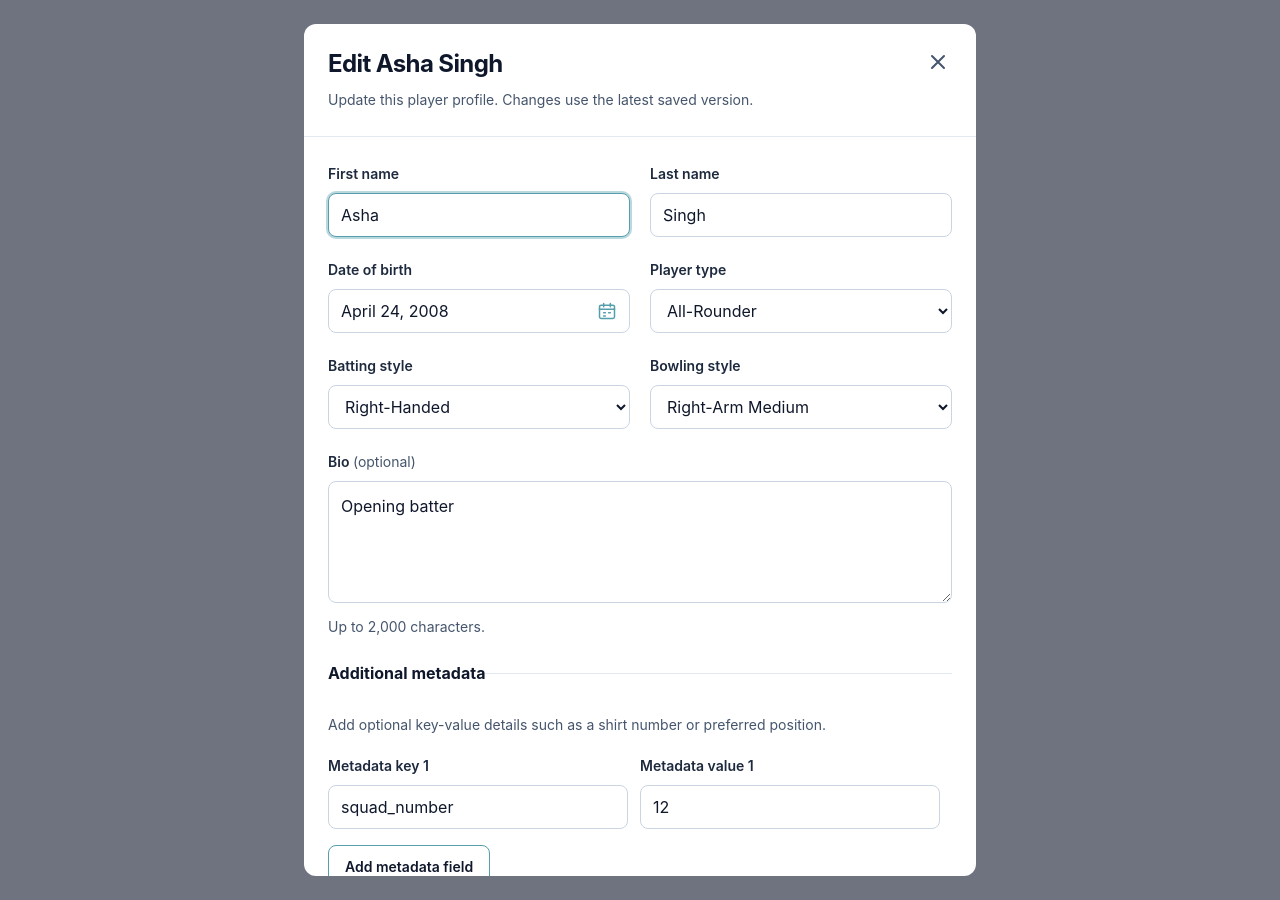
EditPlayerModal › handles a 409 conflict and reloads the latest player into the form
Replace the text in the field labelled "First name" with "Local edit" at (479, 215), box [328,193,630,237]
(page scrolled)
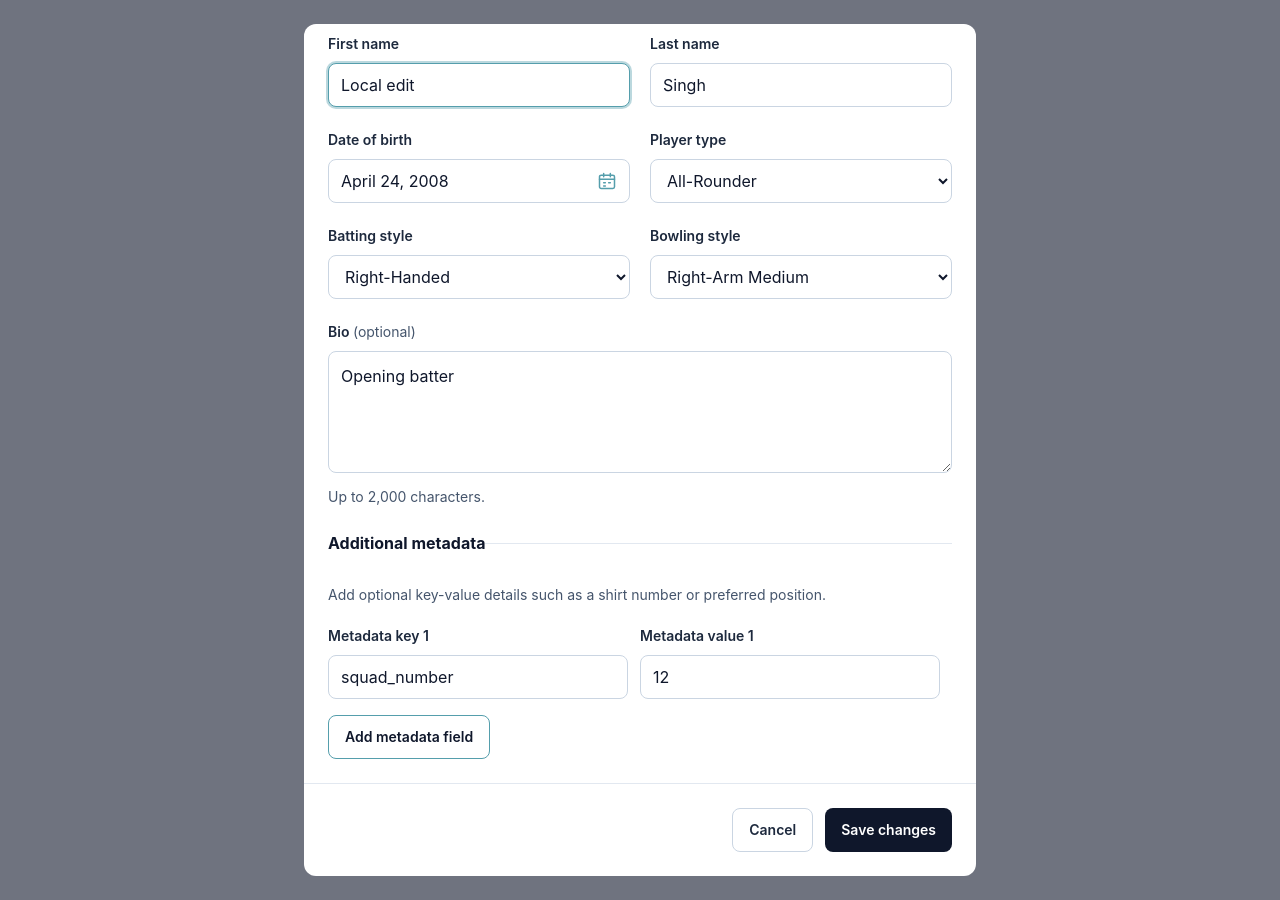
Click the button "Save changes" at (889, 830), box [825,808,952,852]
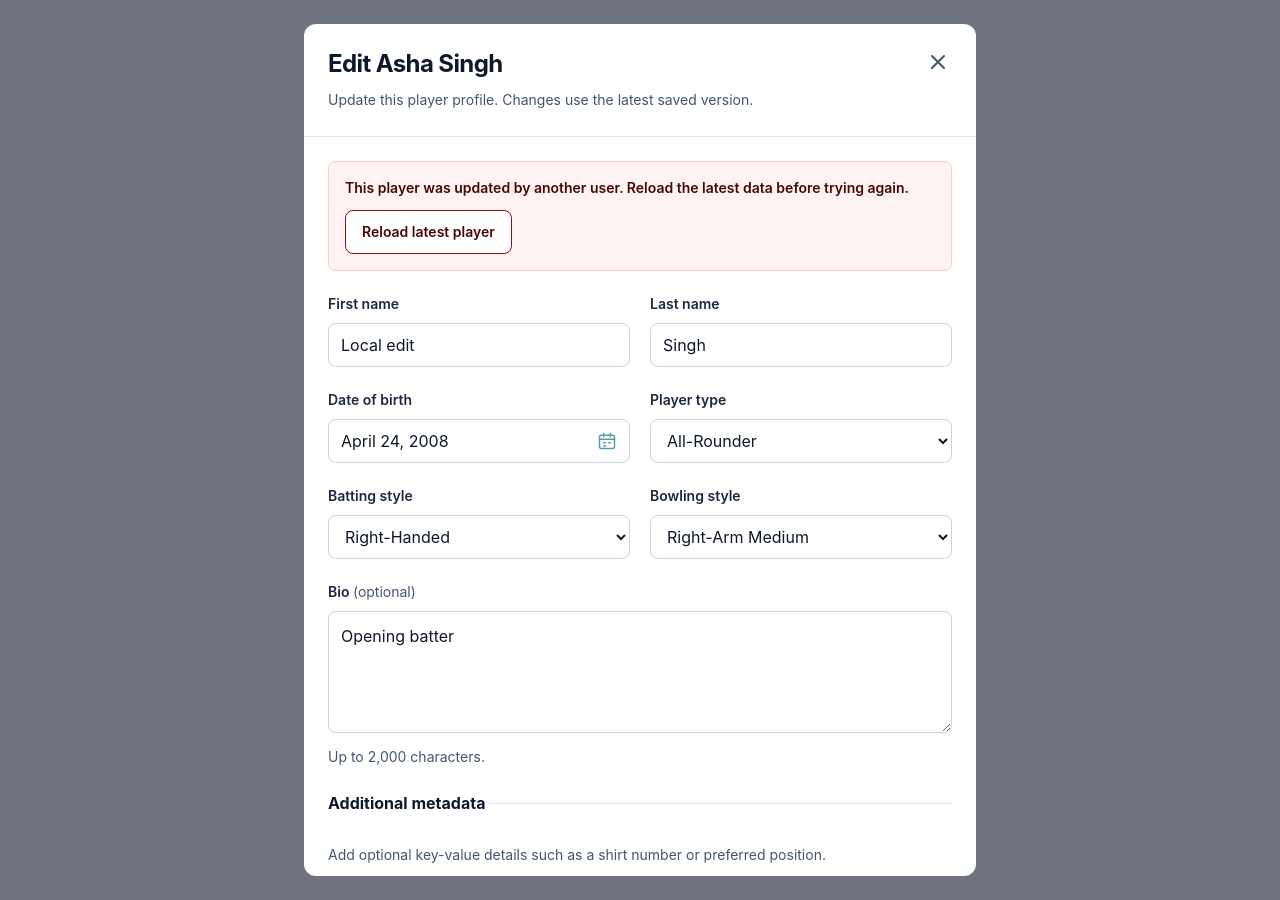
Now the message shows "This player was updated by another user.", box [345,179,909,196]
Click the button "Reload latest player" at (428, 232), box [345,210,512,254]
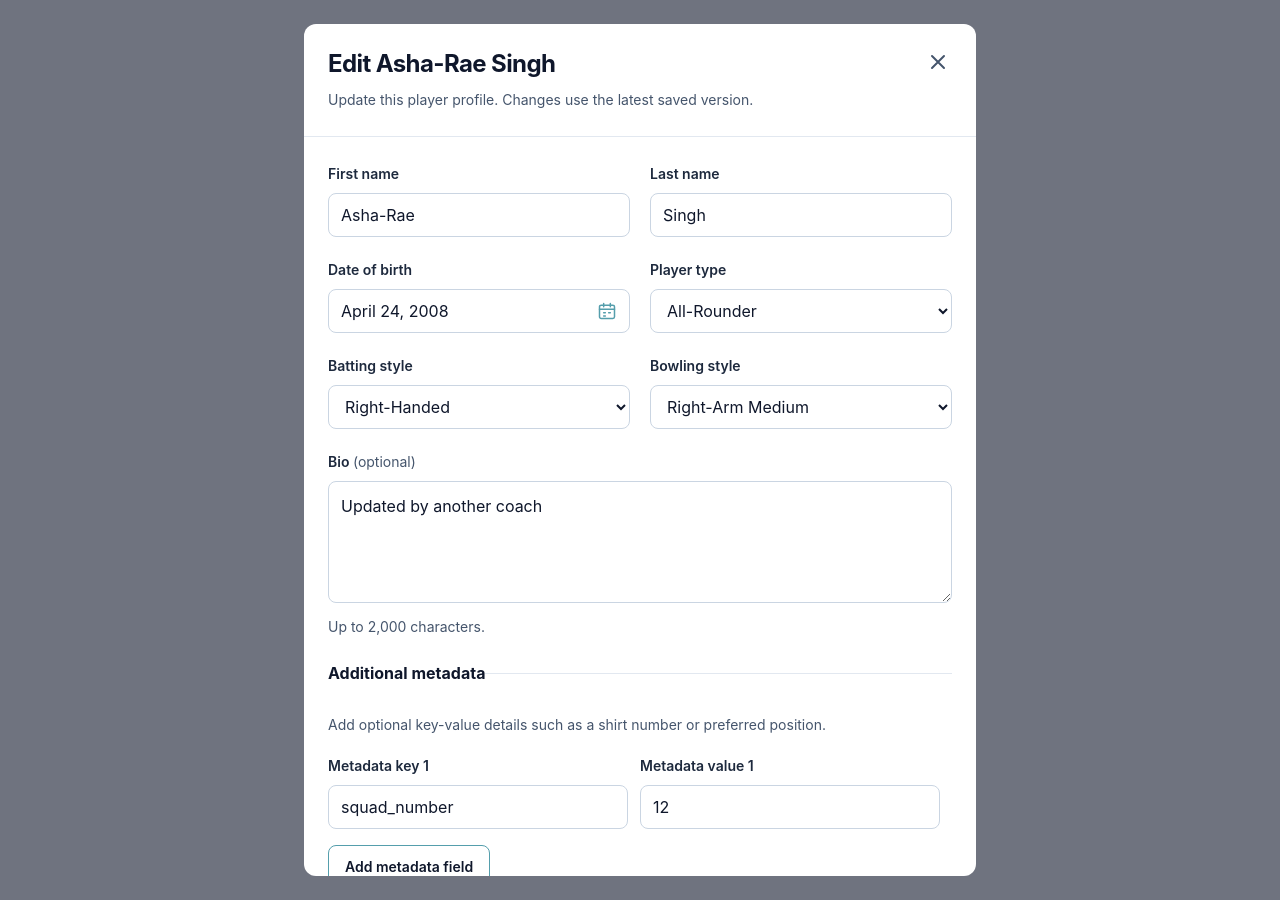
Now the field labelled "First name" holds "Asha-Rae", box [328,193,630,237]
Now the text box labelled "Bio (optional)" holds "Updated by another coach", box [328,481,952,603]
